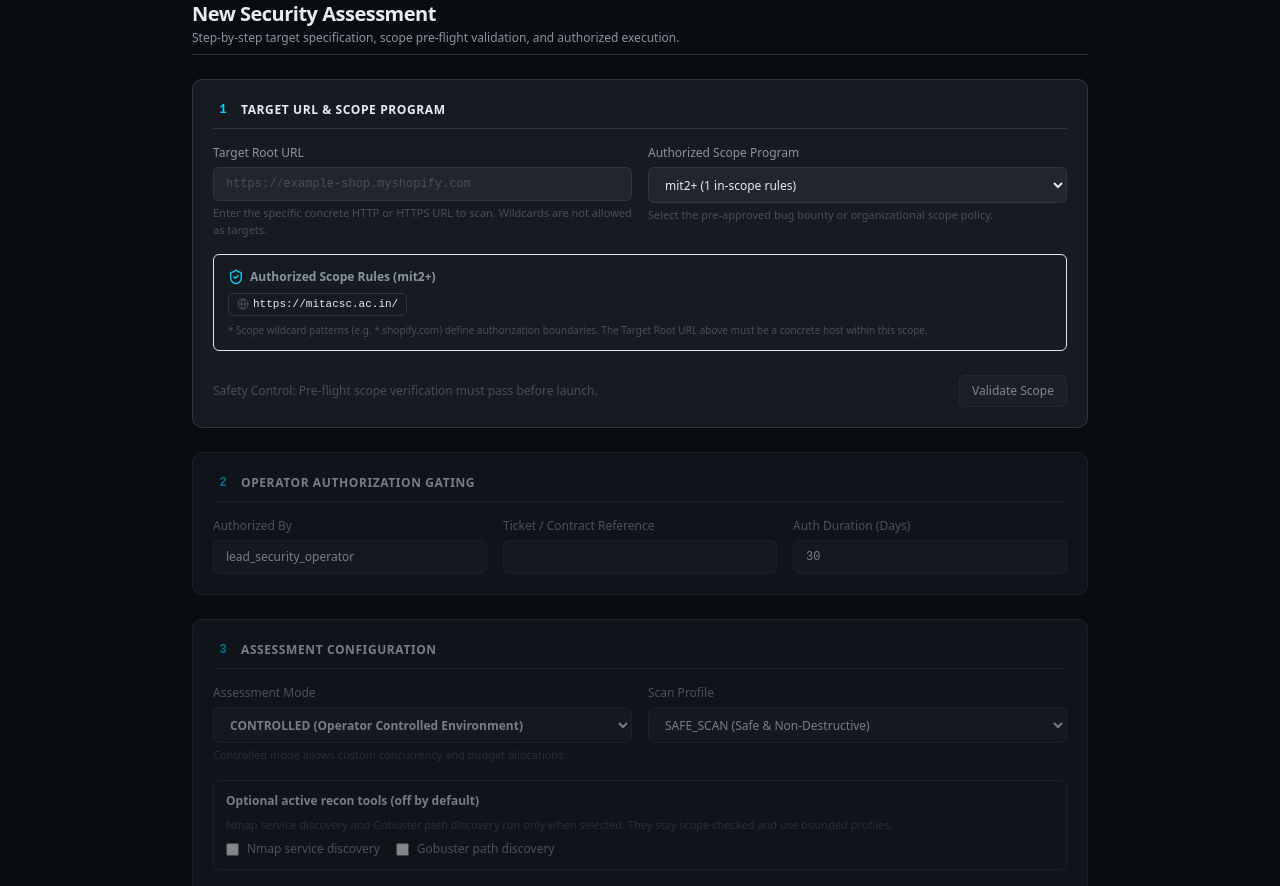
Test: NewAssessment Crash Investigation & Resilience Suite › 5. Missing optional readiness field does not crash
Type "https://mitacsc.ac.in/" into the field with placeholder "https://example-shop.myshopify.com".
click(422, 184); type("https://mitacsc.ac.in/")  # box [213,167,632,201]
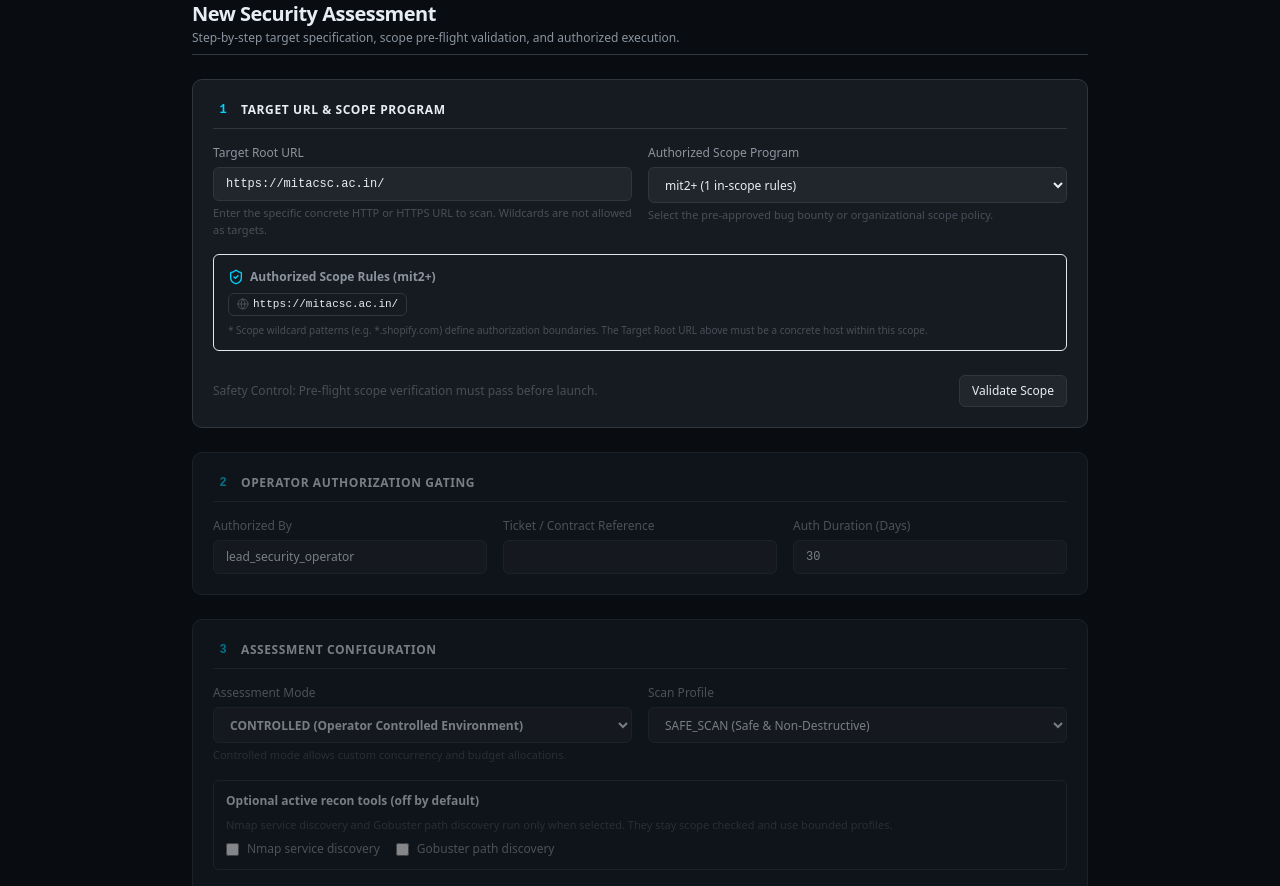
Result: the button "Validate Scope" is enabled
Click the button "Validate Scope".
click(1013, 391)  # box [959,375,1067,407]
(page scrolled)
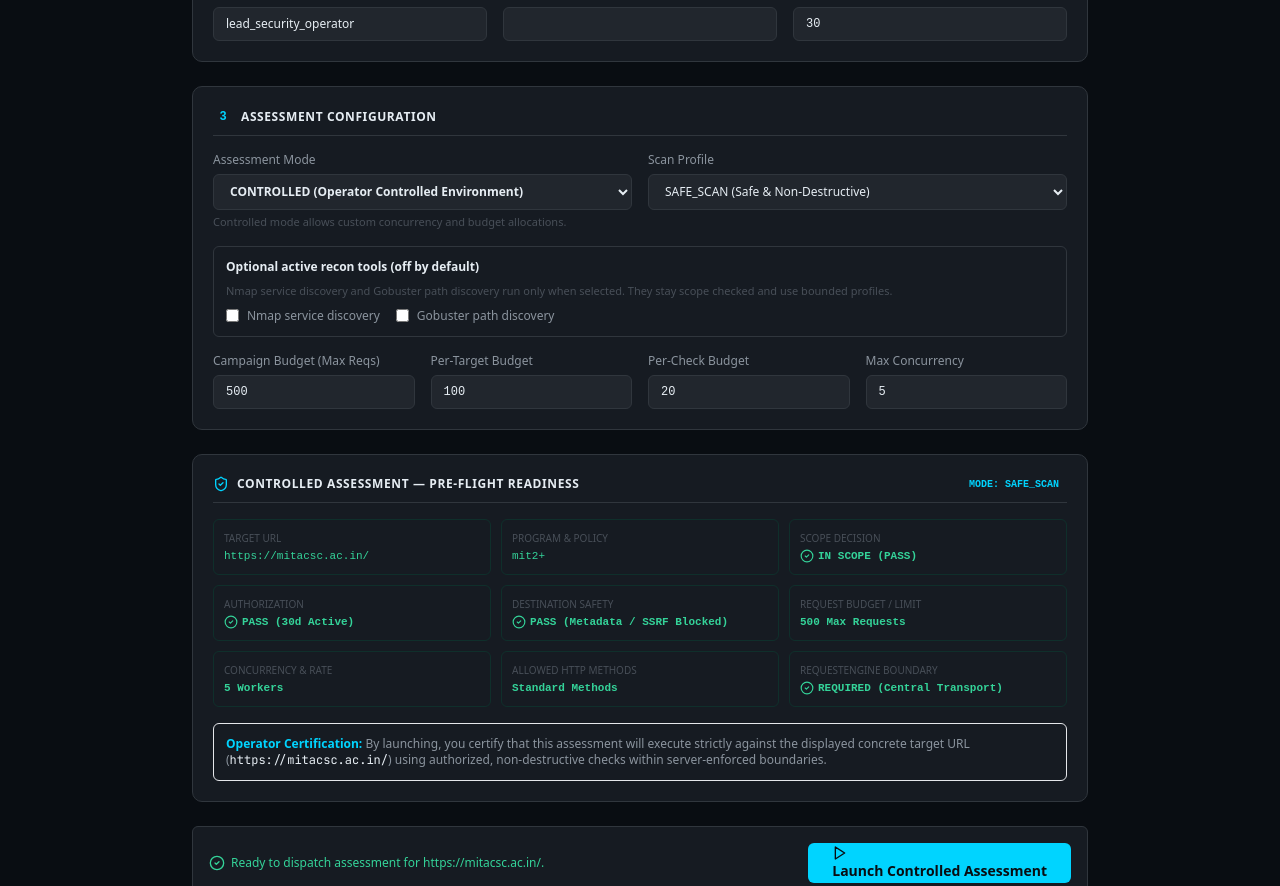
Result: the heading "CONTROLLED ASSESSMENT — PRE-FLIGHT READINESS" is shown at [237,476,579,492]
